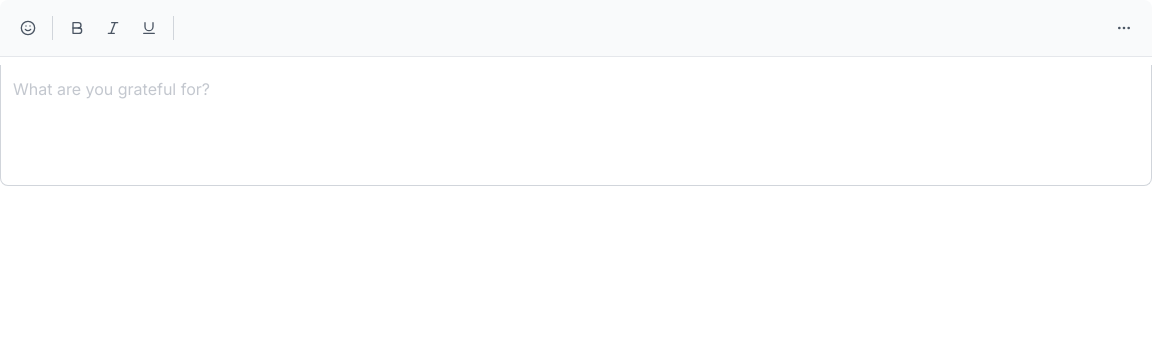
Scenario: RichTextEditor Responsive Toolbar › moves items to overflow menu when space is limited
Expected: the button titled "Bold" is shown, x1=61 y1=12 x2=93 y2=44
What coordinates should you click on to do the following:
click the button titled "More Options"
I would click on:
 (1124, 28)
Its box is x1=1108 y1=12 x2=1140 y2=44.
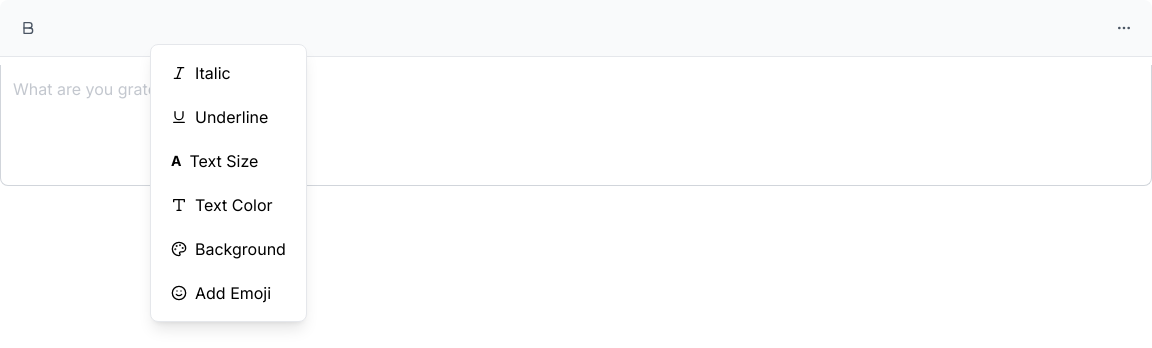
Now the text "Text Size" is shown, box x1=190 y1=149 x2=258 y2=173
